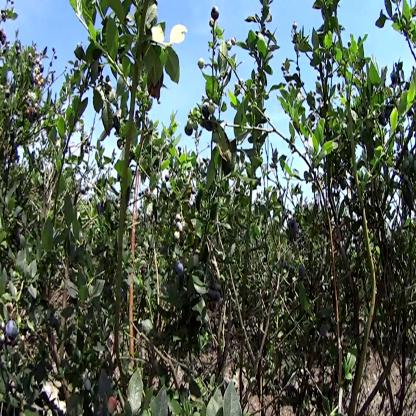intermediate: (106, 394, 122, 413)
mature: (5, 318, 19, 339), (174, 261, 186, 281), (298, 266, 308, 281), (213, 11, 219, 19)
young: (173, 228, 183, 245), (198, 57, 206, 71)
